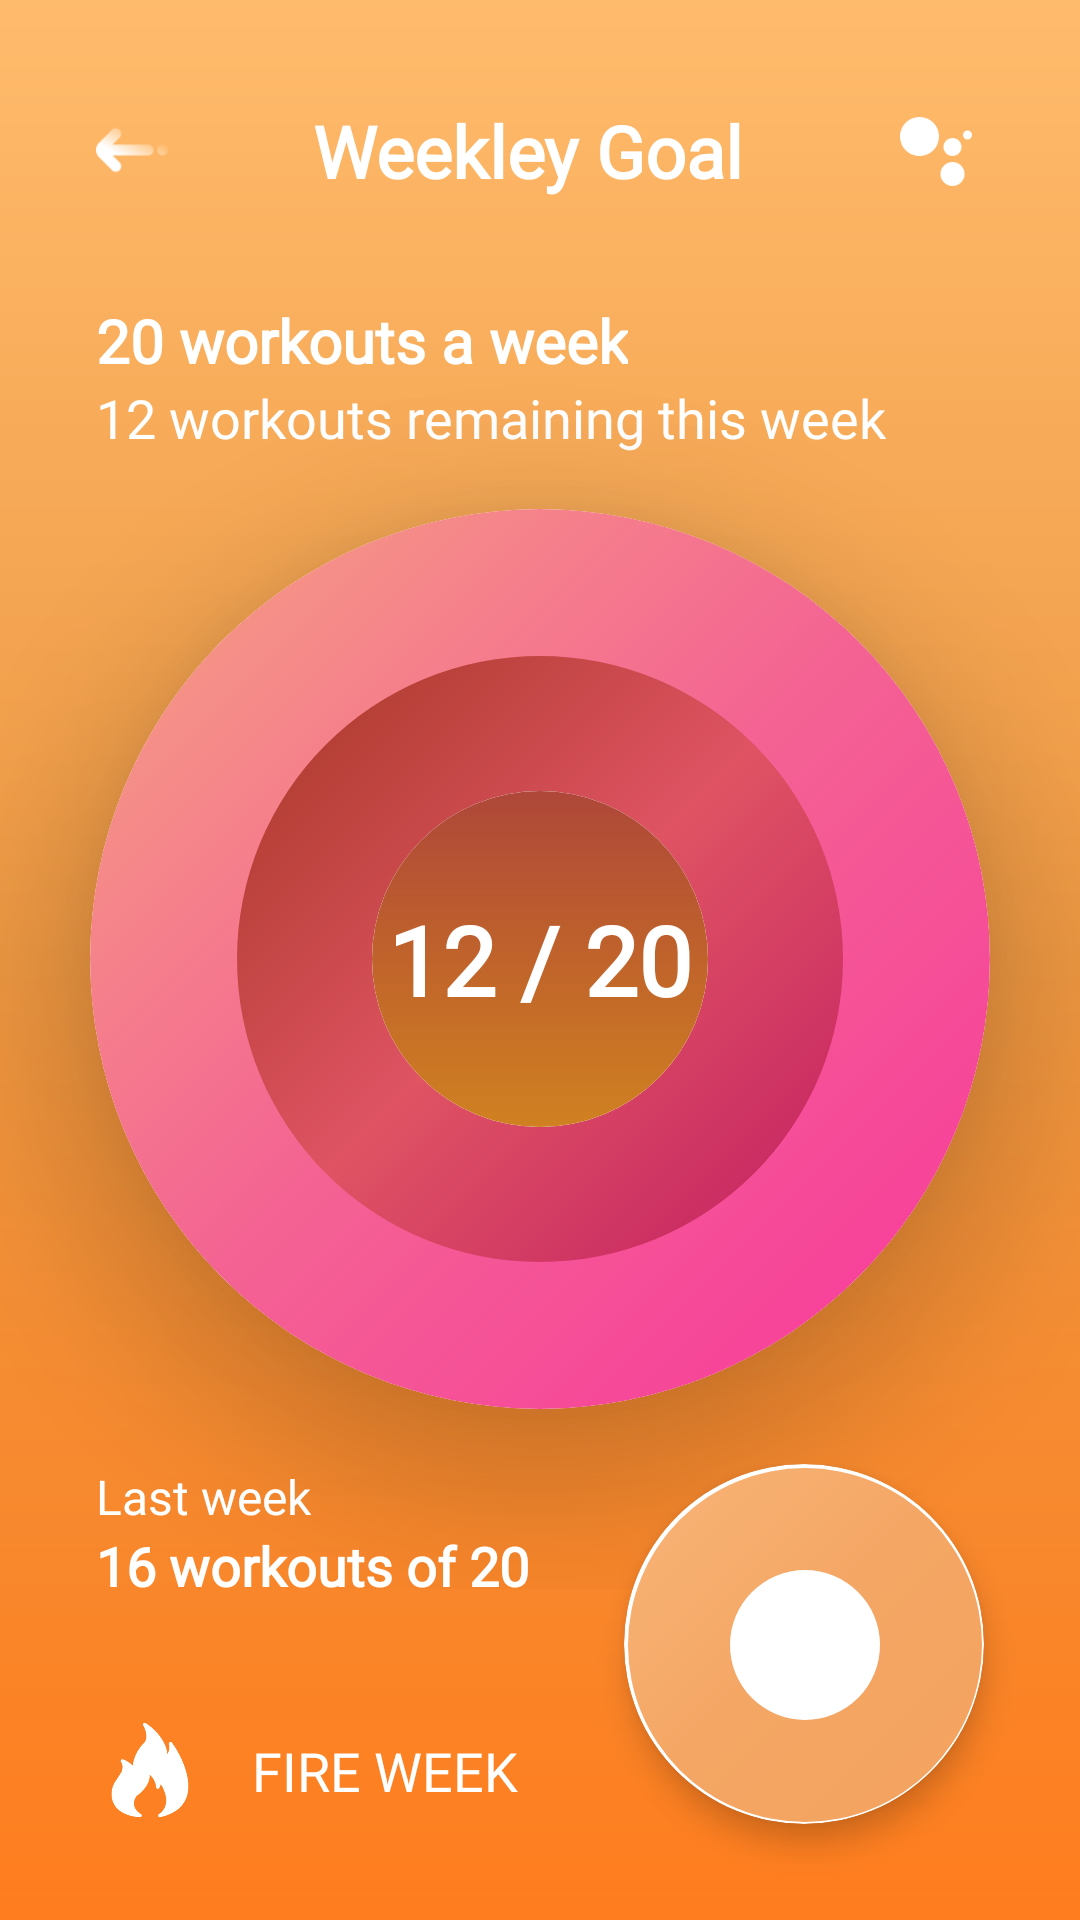

Named icons in this screenshot (1080x1920) and their centers, (x,y):
bolitas: (936,151)
flecha atras: (131,150)
fuego: (150,1770)
